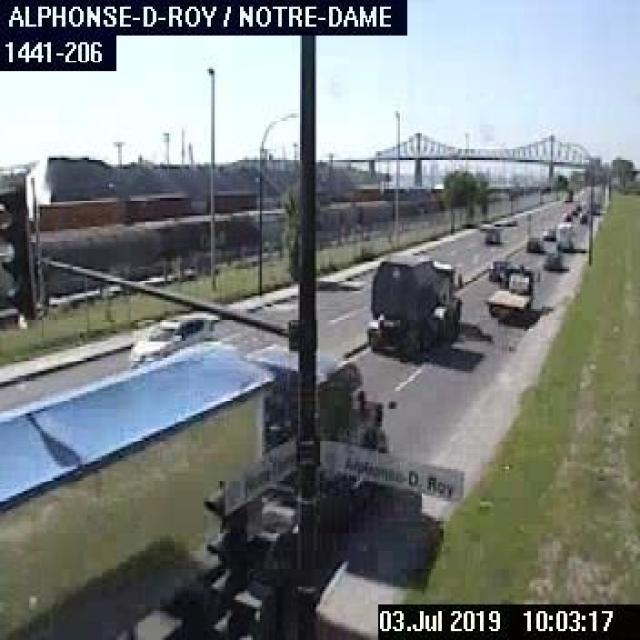vehicle: (0, 333, 387, 637), (364, 251, 466, 360), (126, 305, 220, 368), (484, 260, 539, 320), (540, 232, 566, 275), (556, 218, 582, 254), (483, 254, 509, 282), (482, 222, 504, 247), (520, 232, 542, 255)
